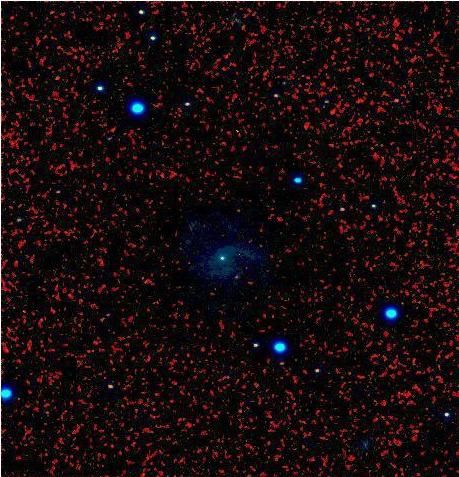star: (222, 264, 252, 294)
